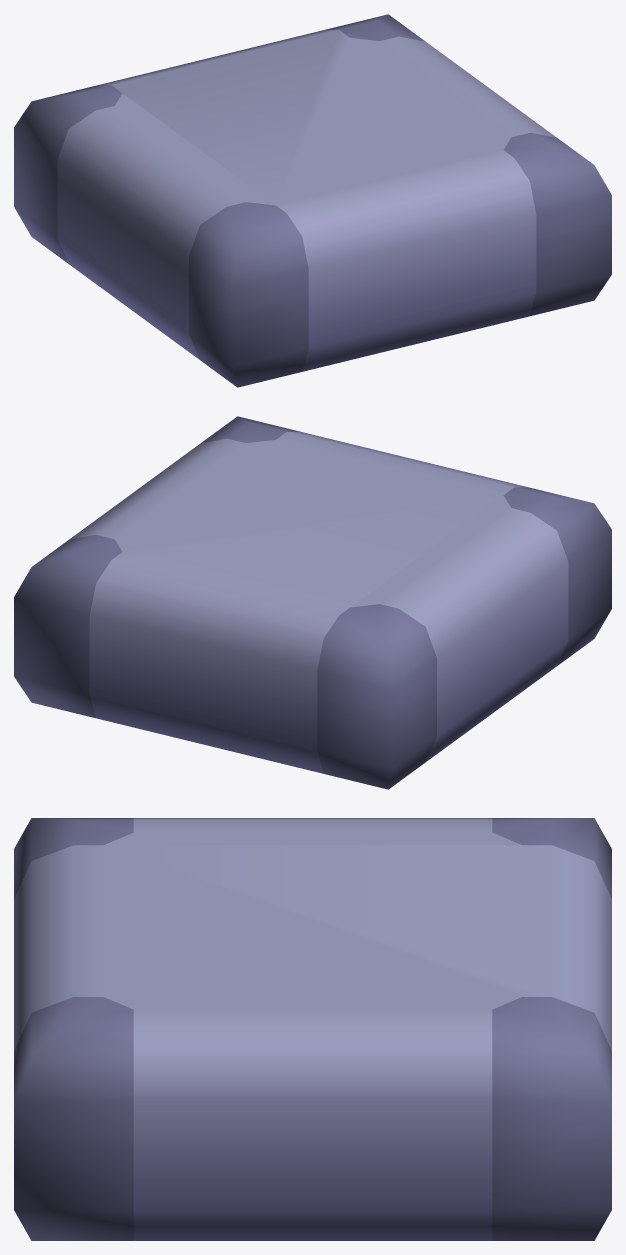
The model's file is kenney-conveyor-conveyor-stripe-sides-cross.glb.
3 views of the same model, one above another, from view 1: azimuth 30°, elevation 25°; view 2: azimuth 150°, elevation 25°; view 3: azimuth 270°, elevation 25° (orthographic). The views are drawn at different scales.
Parts seen in each view (by area): view 1: conveyor-stripe-sides-cross; view 2: conveyor-stripe-sides-cross; view 3: conveyor-stripe-sides-cross.
Part boxes in pixels (box(x1,y1,x2,y2)): conveyor-stripe-sides-cross: box(14, 14, 611, 387); conveyor-stripe-sides-cross: box(14, 416, 611, 789); conveyor-stripe-sides-cross: box(14, 818, 611, 1240).
Bounding box in the file's own units: 1 × 0.3999 × 1.
Materials: 1 (1 with a texture image).
